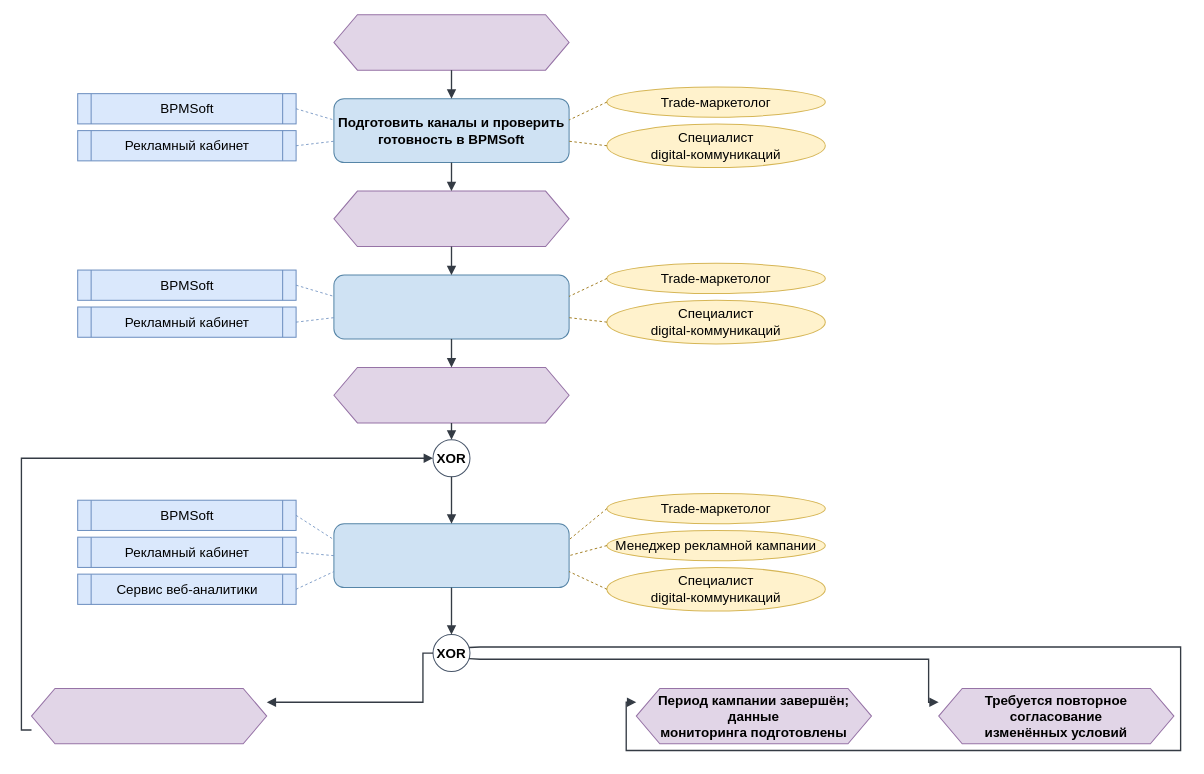
Image size: 1204x774. Some labels were removed from this diagram. The shapes that lost their labels are listed below. From the top down, each one's box as (x1, y1, x2, y2) in pixels, then its label:
(333, 14, 569, 70): Медиаплан и рекламные материалы согласованы
(333, 190, 569, 247): Цифровые каналы и магазины готовы к запуску
(333, 274, 569, 339): Запустить размещения и утверждённую рассылку
(333, 367, 569, 423): Запуск цифрового и розничного направлений подтверждён
(333, 523, 569, 588): Контролировать и корректировать кампанию в BPMSoft
(31, 687, 267, 744): Кампания продолжается; назначена очередная проверка
